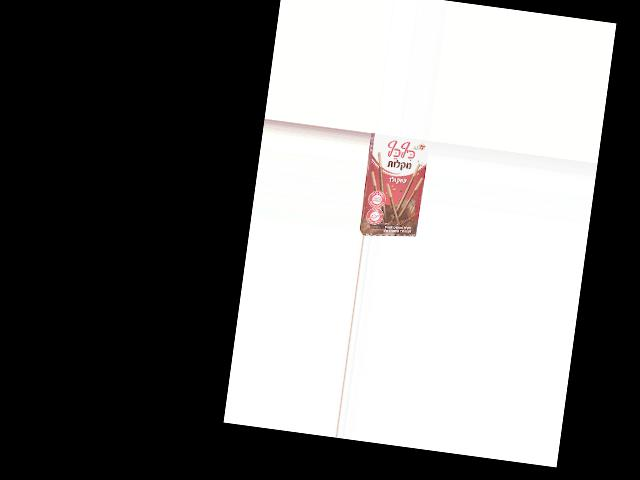chocolate: (359, 133, 430, 235)
